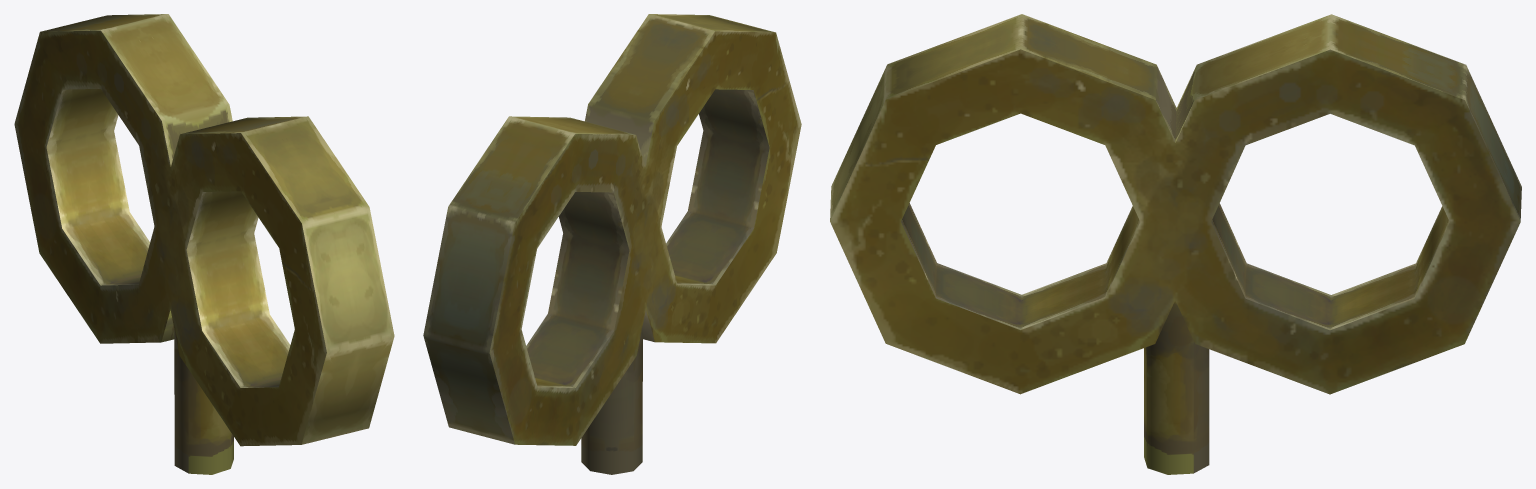
File: frankie-blendswap_clckwrkKEY_v01.fbx
3 views of the same model, side by side, from view 1: azimuth 30°, elevation 25°; view 2: azimuth 150°, elevation 25°; view 3: azimuth 270°, elevation 25° (orthographic). The views are drawn at different scales.
Parts seen in each view (by area): view 1: frankie_002; view 2: frankie_002; view 3: frankie_002.
Part boxes in pixels (left/top/right/bottom): frankie_002: left=14, top=14, right=394, bottom=474; frankie_002: left=423, top=14, right=801, bottom=474; frankie_002: left=830, top=14, right=1521, bottom=474.
Bounding box in the file's own units: 0.2507 × 1.37 × 2.
